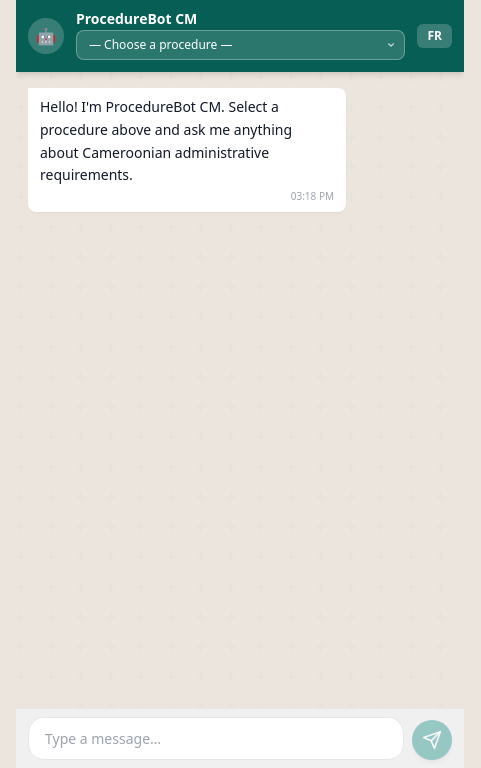
App › French error callout shown when language is FR and rate-limited
// Switch to French first
Step 1. Click the button with test id "language-toggle" → (435, 36), box [418,24,452,48]
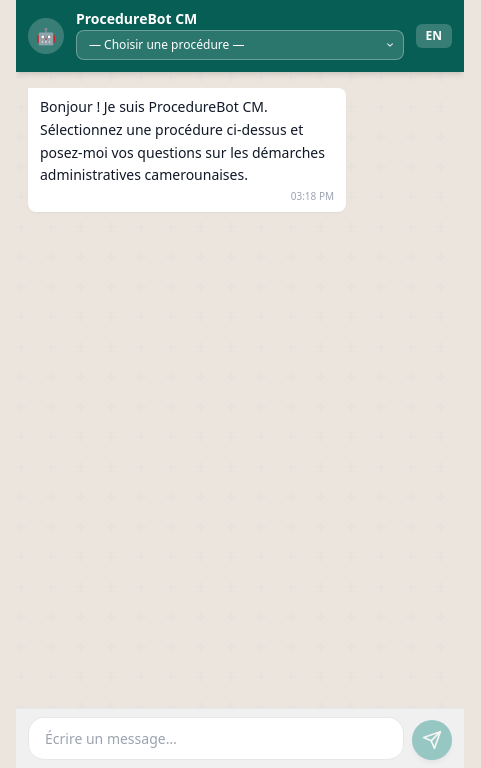
Step 2. Select "Carte Nationale d'Identité" in the dropdown → (240, 45), box [76,30,404,60]
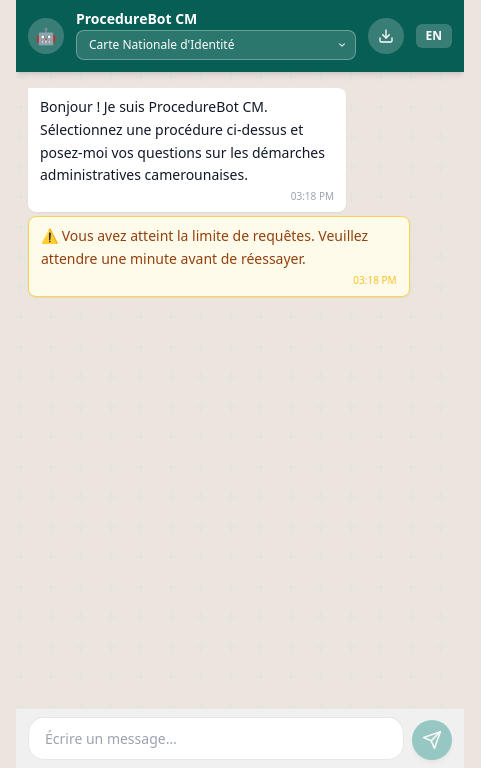
Check: the text "limite de requêtes" is shown, box [41,226,372,268]
